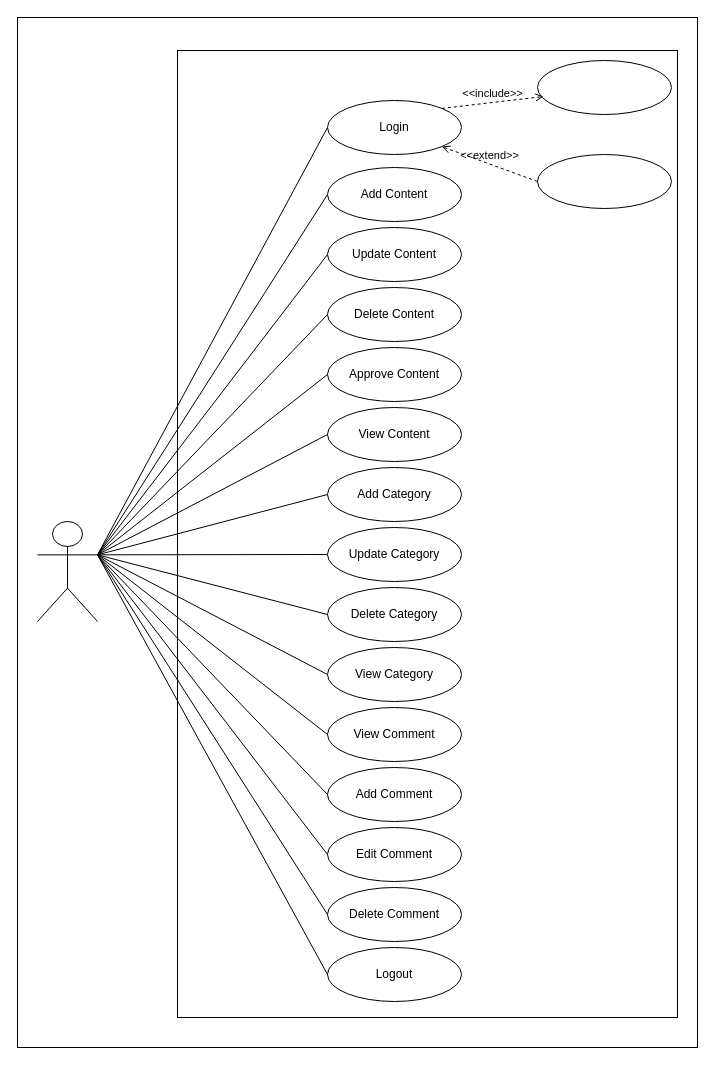
This 715x1065 diagram has some shape labels left out. The shapes that lost their labels are listed below. From the top down, each one's centre as x and y in pixels, then its label:
the point at 604,87: Check Validity
the point at 604,181: Display Error
the point at 67,571: Author
